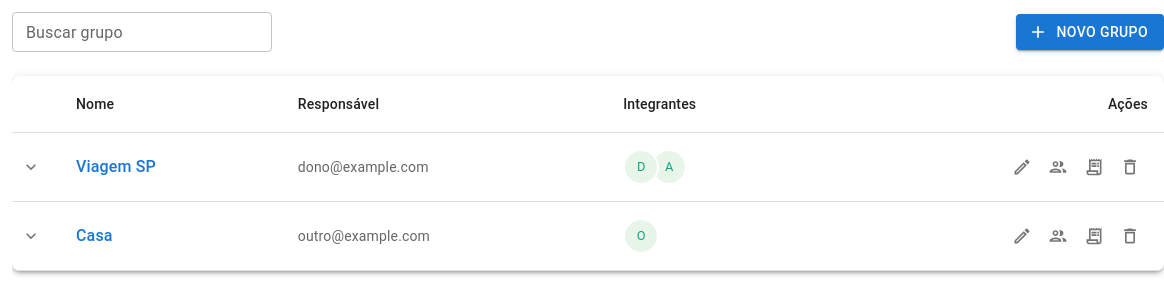
Dashboard › renders a table row per group and filters by search
This screenshot has width=1164, height=293.
Expected: the link "Viagem SP" is shown, [76, 157, 156, 176]
Expected: the link "Casa" is shown, [76, 226, 113, 245]
Type "via" into the field labelled "Buscar grupo".
click(142, 32); type("via")  # box [12, 12, 272, 52]
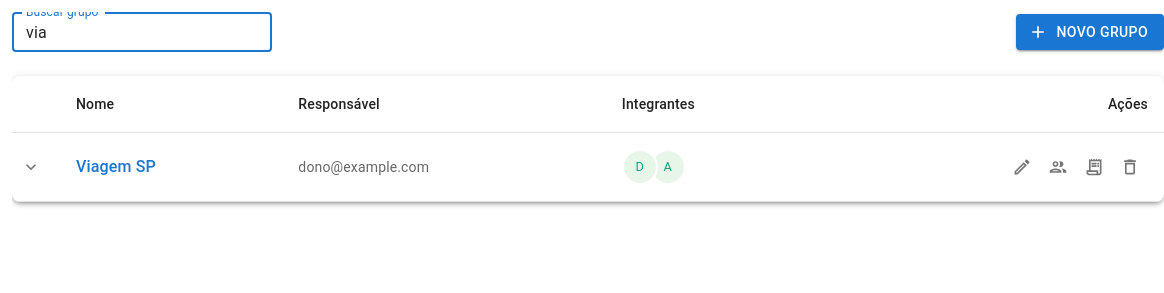
Expected: the link "Viagem SP" is shown, [76, 157, 156, 176]
Now the link "Casa" is gone
